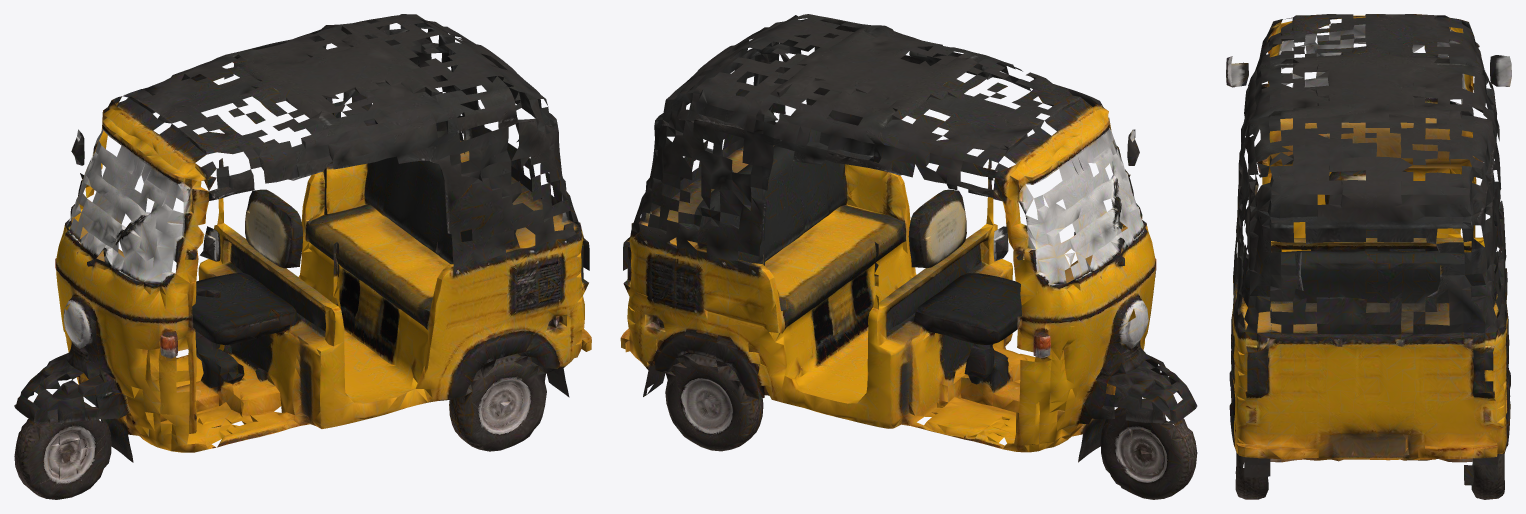
The model's file is three-wheeled.glb.
The picture shows the model from 3 angles, left to right: view 1: azimuth 30°, elevation 25°; view 2: azimuth 150°, elevation 25°; view 3: azimuth 270°, elevation 25°; orthographic projection.
Size of the model in its own units: 0.9789 by 0.6498 by 0.4671.
Materials: 1 (1 with a texture image).
